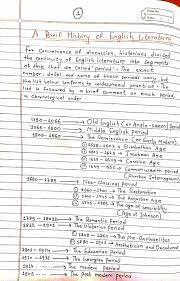text: (22, 85, 176, 100), (23, 45, 172, 60), (30, 29, 171, 44), (21, 70, 168, 84), (22, 78, 170, 91), (23, 55, 170, 68), (22, 62, 156, 73), (86, 118, 180, 133), (76, 238, 180, 250), (80, 200, 169, 214), (86, 132, 177, 145), (88, 162, 179, 175), (78, 232, 172, 244), (87, 142, 167, 154), (87, 156, 162, 167), (81, 194, 163, 204), (88, 149, 164, 159), (22, 93, 83, 104), (86, 126, 150, 136), (69, 271, 133, 281), (123, 173, 180, 184), (79, 187, 157, 195), (67, 262, 121, 273), (116, 209, 163, 220), (70, 255, 121, 264), (82, 179, 138, 187), (73, 216, 127, 224), (73, 247, 127, 255), (73, 223, 126, 230), (29, 116, 62, 124), (22, 214, 59, 221), (25, 176, 57, 184), (31, 133, 62, 141), (29, 124, 62, 131), (20, 247, 51, 254), (20, 254, 50, 261), (22, 222, 56, 228), (72, 7, 83, 20), (20, 270, 35, 277), (21, 263, 34, 269), (146, 9, 159, 13), (145, 16, 156, 20)
